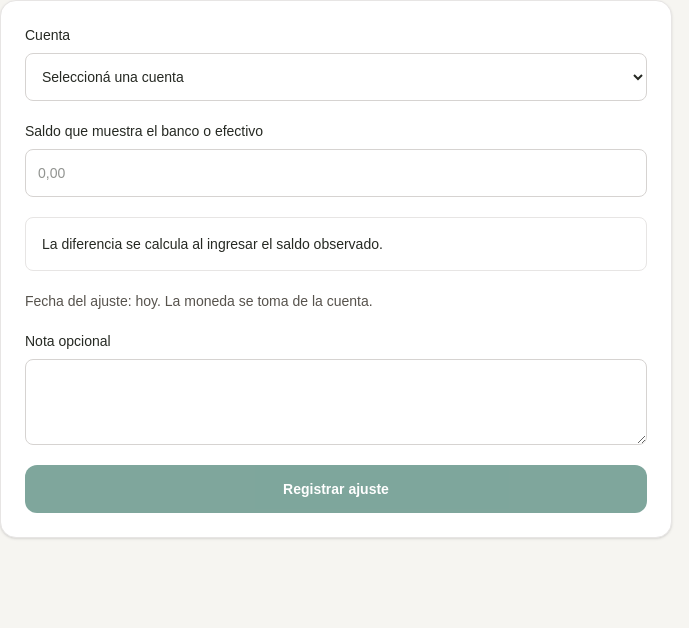
formulario de ajuste manual › no preselecciona cuenta y calcula la diferencia antes de guardar
The width and height of the screenshot is (689, 628).
Select "Itaú pesos · UYU" in the dropdown labelled "Cuenta" at (336, 77), box [25,53,647,101]
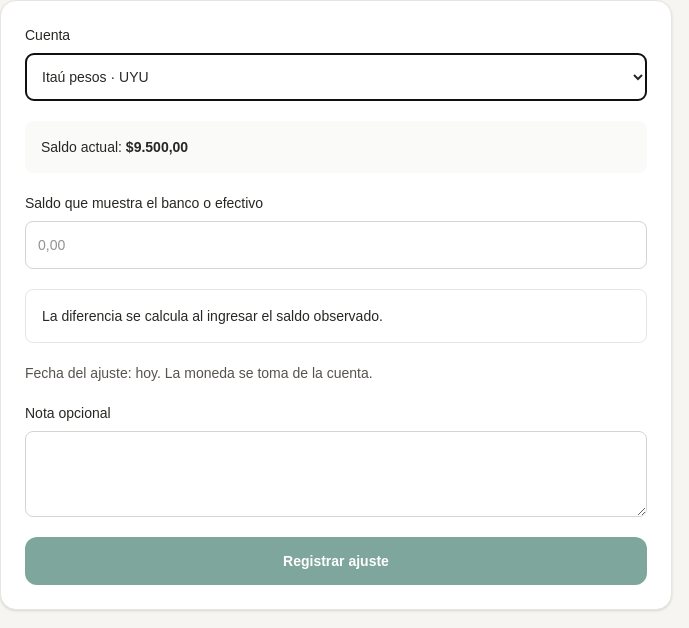
Type "9000" into the field labelled "Saldo que muestra el banco o efectivo" at (336, 245), box [25,221,647,269]
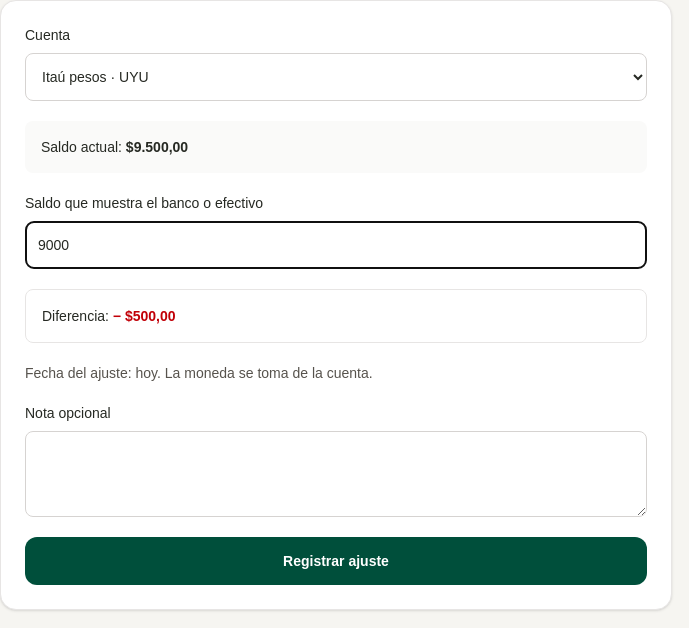
Check: the text "− $500,00" is shown, box [113,308,176,324]
Check: the button "Registrar ajuste" is enabled, box [25,537,647,585]
